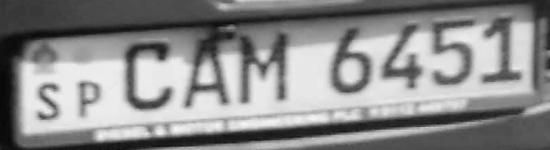1: (480, 12, 527, 87)
4: (382, 18, 428, 97)
5: (430, 12, 480, 91)
6: (323, 23, 379, 99)
C: (116, 35, 176, 113), (178, 32, 232, 112)
M: (234, 31, 298, 107)
P: (73, 76, 108, 123)
S: (30, 79, 69, 122)
